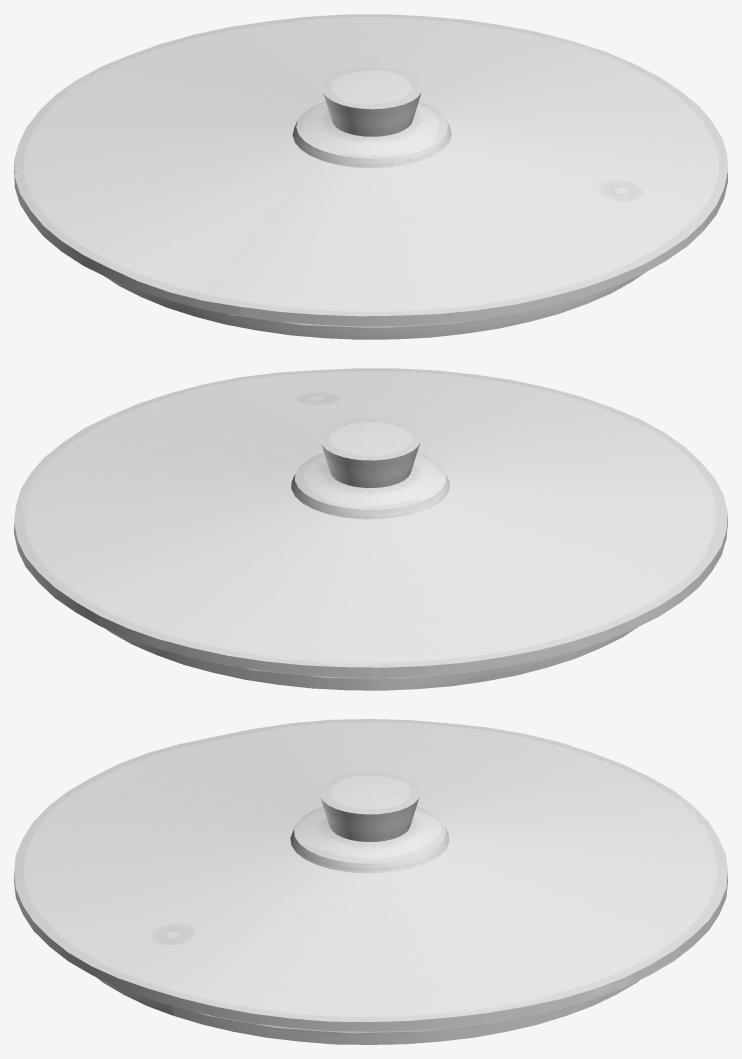
Rendered from SM_Pan_A1_Cap.fbx.
3 views of the same model, one above another, from view 1: azimuth 30°, elevation 25°; view 2: azimuth 150°, elevation 25°; view 3: azimuth 270°, elevation 25° (orthographic).
Parts seen in each view (by area): view 1: SM_Pan_A1_Cap; view 2: SM_Pan_A1_Cap; view 3: SM_Pan_A1_Cap.
Boxes of the visible parts, x1,y1,x2,y2 form: SM_Pan_A1_Cap: (14, 14, 727, 339); SM_Pan_A1_Cap: (14, 368, 727, 690); SM_Pan_A1_Cap: (14, 719, 727, 1044).
Bounding box in the file's own units: 22.38 × 22.36 × 4.2.
1 material, 1 textured.
